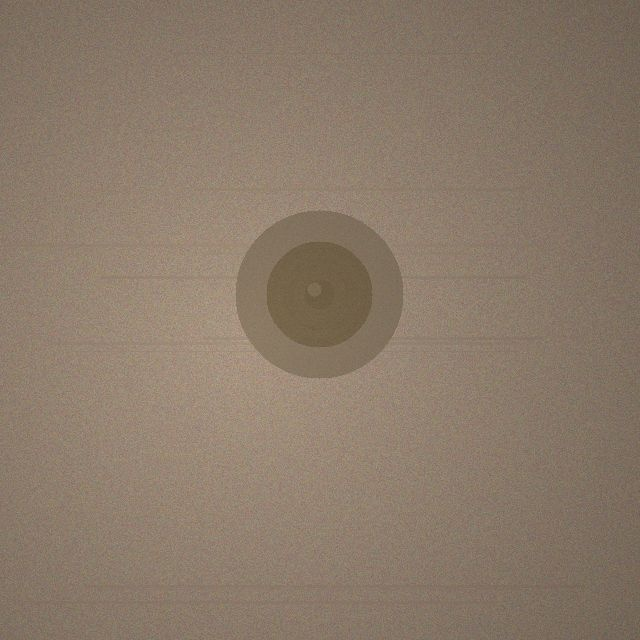good: (235, 210, 403, 378)
